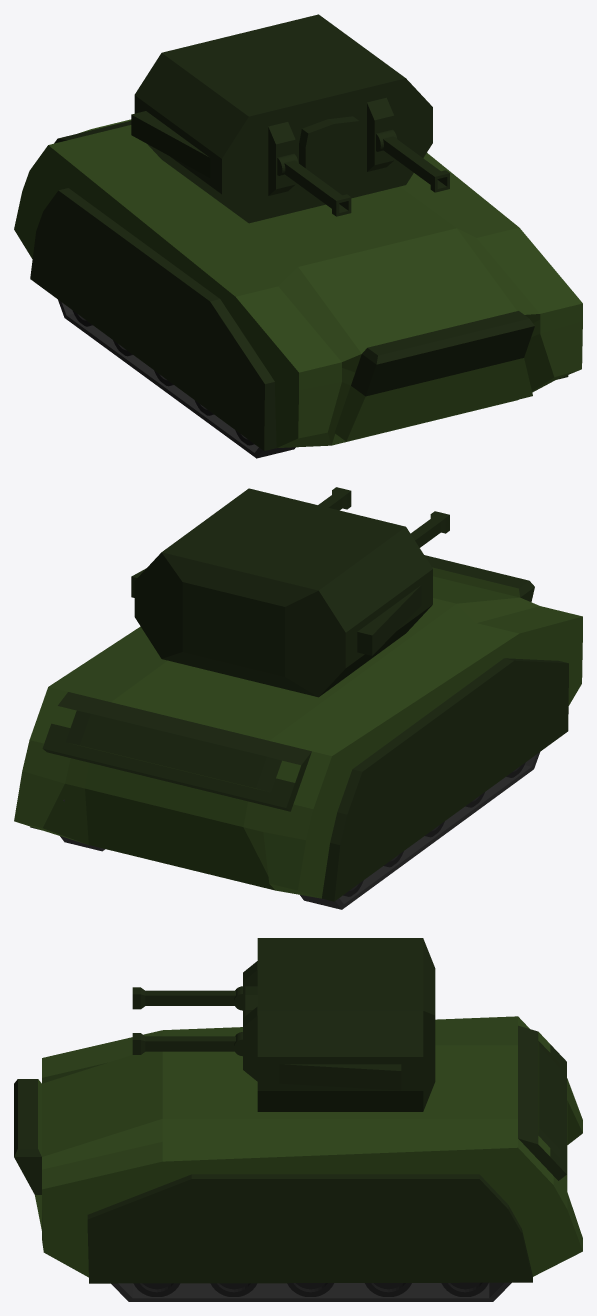
The model's file is tier2.obj.
The picture shows the model from 3 angles, top to bottom: view 1: azimuth 30°, elevation 25°; view 2: azimuth 150°, elevation 25°; view 3: azimuth 270°, elevation 25°; orthographic projection. The views are drawn at different scales.
Visible parts, largest first — view 1: Body8_Cube.064, Turret8_Cube.038, Main_Gun8_Cube.039, Tracks8_Cube.063; view 2: Body8_Cube.064, Turret8_Cube.038, Tracks8_Cube.063, Main_Gun8_Cube.039, Road_Wheels8_Cube.065; view 3: Body8_Cube.064, Turret8_Cube.038, Tracks8_Cube.063, Main_Gun8_Cube.039, Road_Wheels8_Cube.065.
Boxes of the visible parts, left/top/right/bottom form: Body8_Cube.064: left=14, top=119, right=582, bottom=450; Turret8_Cube.038: left=131, top=14, right=432, bottom=223; Main_Gun8_Cube.039: left=277, top=129, right=449, bottom=216; Tracks8_Cube.063: left=58, top=300, right=295, bottom=458; Body8_Cube.064: left=14, top=555, right=582, bottom=901; Turret8_Cube.038: left=131, top=488, right=432, bottom=697; Tracks8_Cube.063: left=60, top=752, right=539, bottom=909; Main_Gun8_Cube.039: left=318, top=487, right=449, bottom=547; Road_Wheels8_Cube.065: left=343, top=762, right=525, bottom=896; Body8_Cube.064: left=14, top=1016, right=582, bottom=1283; Turret8_Cube.038: left=243, top=938, right=435, bottom=1111; Tracks8_Cube.063: left=111, top=1282, right=511, bottom=1301; Main_Gun8_Cube.039: left=132, top=986, right=242, bottom=1056; Road_Wheels8_Cube.065: left=133, top=1282, right=488, bottom=1296.
Size of the model in its own units: 3.86 by 3.36 by 6.59.
